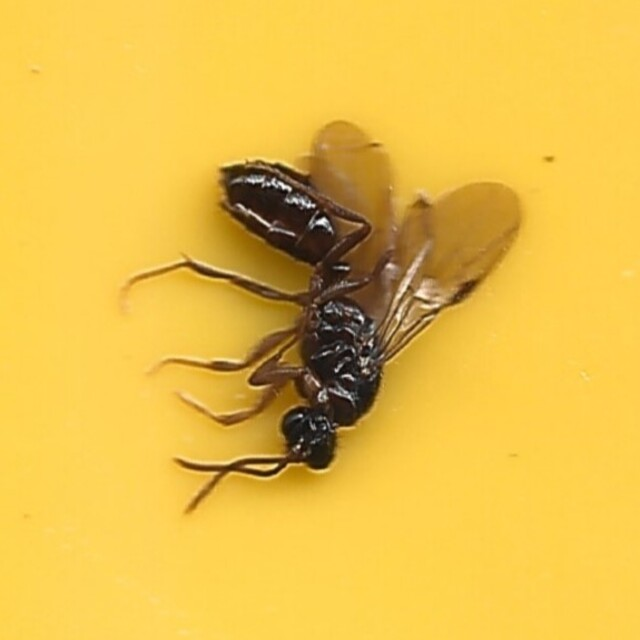Hymenoptera: (111, 122, 529, 518)
